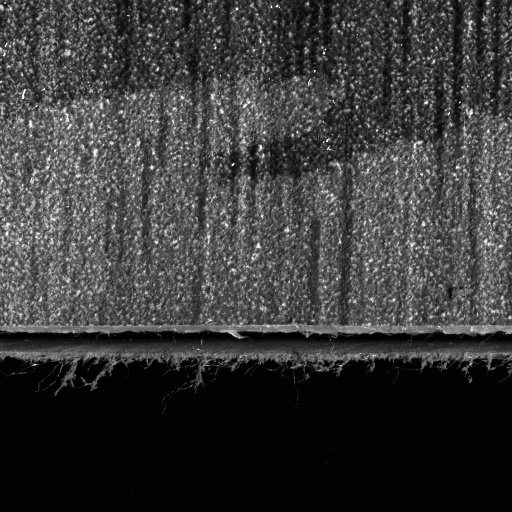kaijiao: (0, 316, 511, 372)
